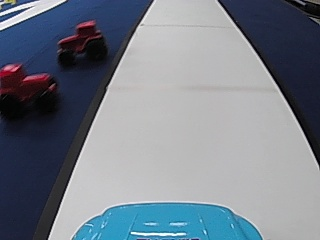tractor: (0, 61, 57, 118), (54, 19, 107, 66)
